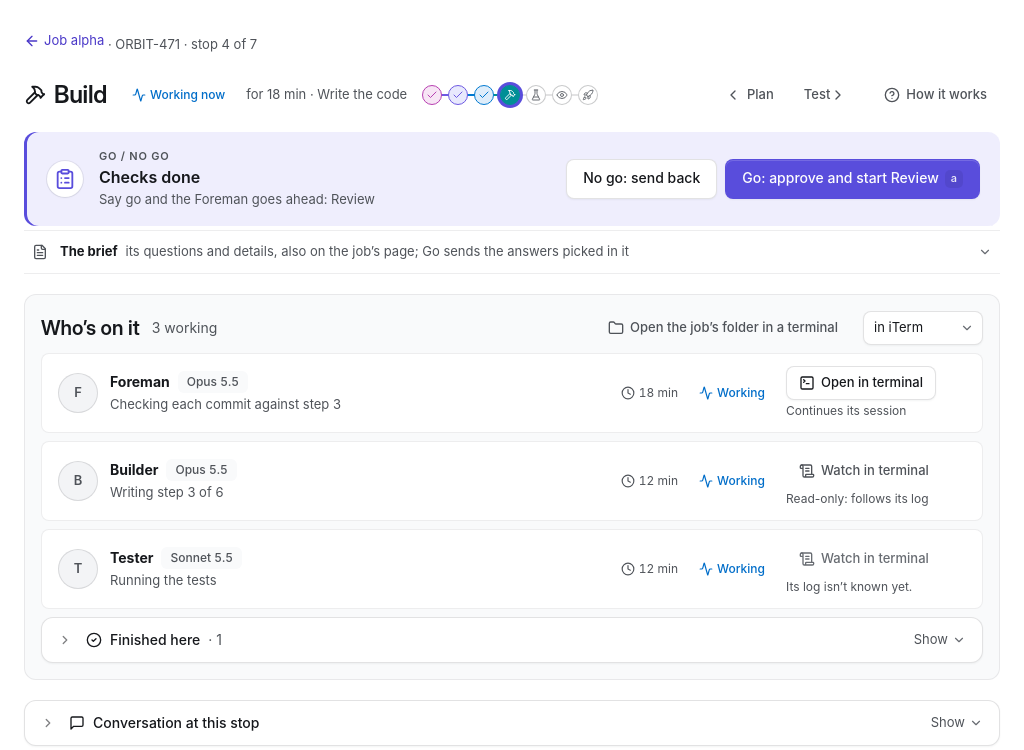
Scenario: the Stage › Simple: the brief under the go / no go bar folds to one labelled row; opening it shows the brief
Click the button "The brief".
click(512, 252)  # box x1=24 y1=230 x2=1000 y2=274
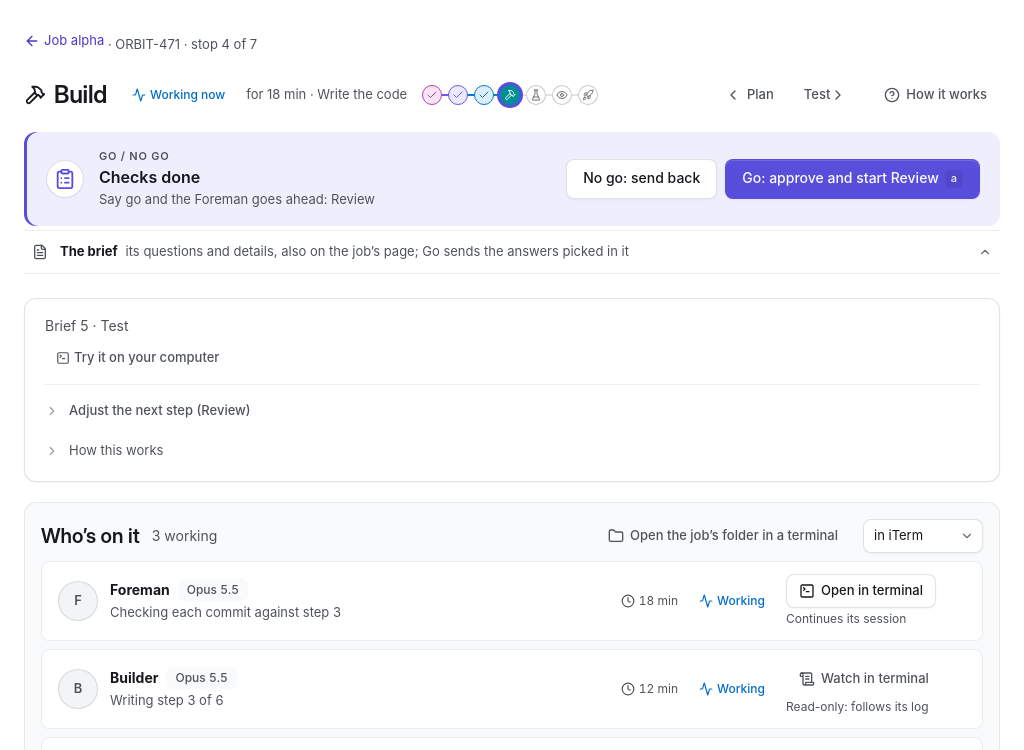
Check: the button "The brief" is expanded, box x1=24 y1=230 x2=1000 y2=274
Check: the element with class "job-gate-body" is shown, box x1=24 y1=286 x2=1000 y2=482
